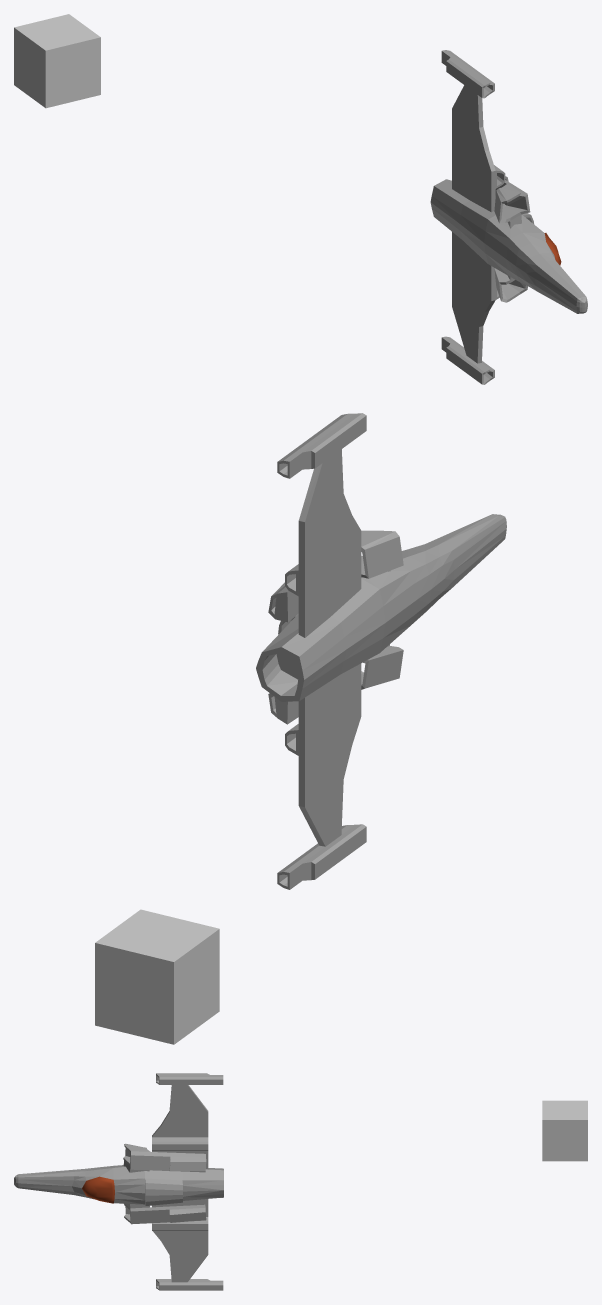
3 views of the same model, one above another, from view 1: azimuth 30°, elevation 25°; view 2: azimuth 150°, elevation 25°; view 3: azimuth 270°, elevation 25° (orthographic). The views are drawn at different scales.
Visible parts, largest first — view 1: Player1_Spaceship3.001, Cube_Cube.001; view 2: Player1_Spaceship3.001, Cube_Cube.001; view 3: Player1_Spaceship3.001, Cube_Cube.001.
Boxes of the visible parts, box(x1,y1,x2,y2) form: Player1_Spaceship3.001: box(430, 50, 587, 384); Cube_Cube.001: box(14, 14, 100, 108); Player1_Spaceship3.001: box(256, 413, 506, 889); Cube_Cube.001: box(95, 909, 219, 1044); Player1_Spaceship3.001: box(14, 1073, 223, 1290); Cube_Cube.001: box(542, 1100, 587, 1161).
Bounding box in the file's own units: 7.71 × 10.38 × 25.16.
